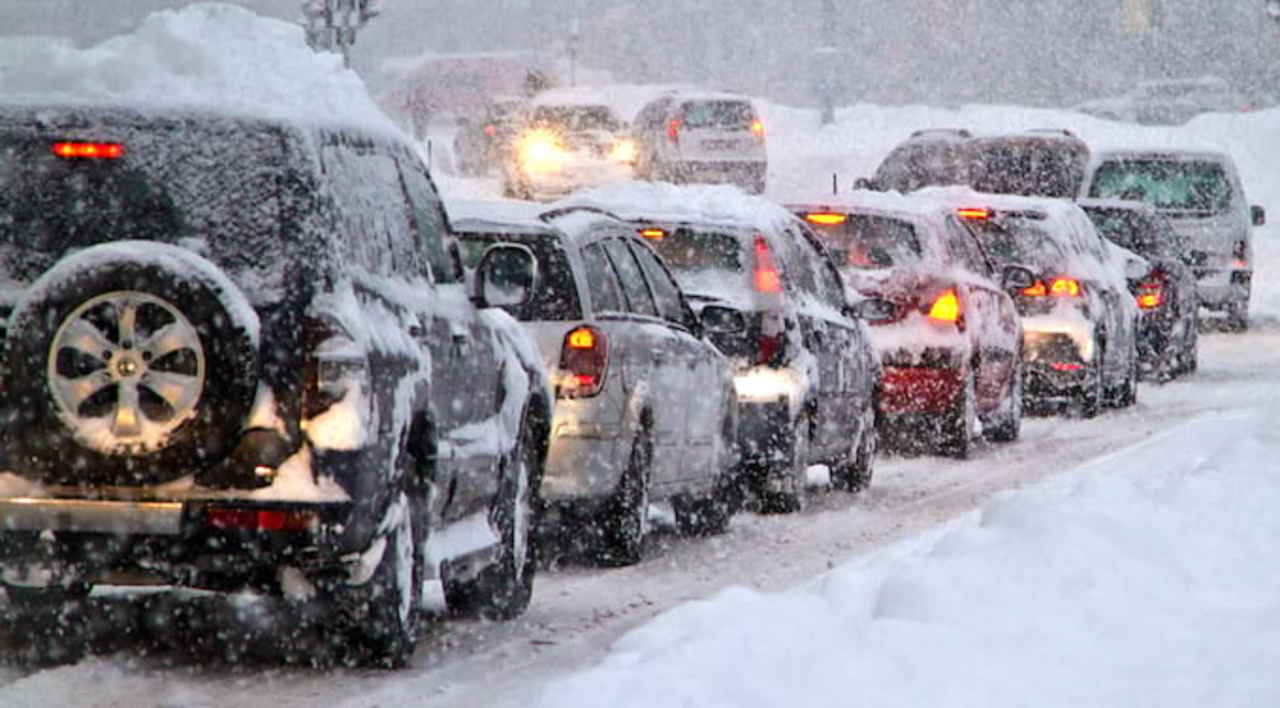car: (3, 93, 540, 657), (579, 193, 879, 517), (468, 208, 741, 558), (828, 185, 1118, 432), (782, 197, 1041, 455), (951, 190, 1152, 422), (1055, 148, 1240, 374), (1040, 172, 1195, 400), (855, 131, 1084, 198), (631, 93, 766, 192), (508, 97, 634, 194), (452, 93, 518, 174)
